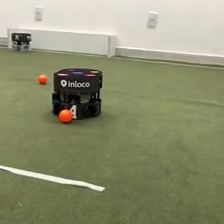ball: (57, 108, 74, 124), (37, 72, 49, 84)
goal: (5, 26, 117, 58)
robot: (51, 66, 104, 120), (10, 30, 33, 53)
